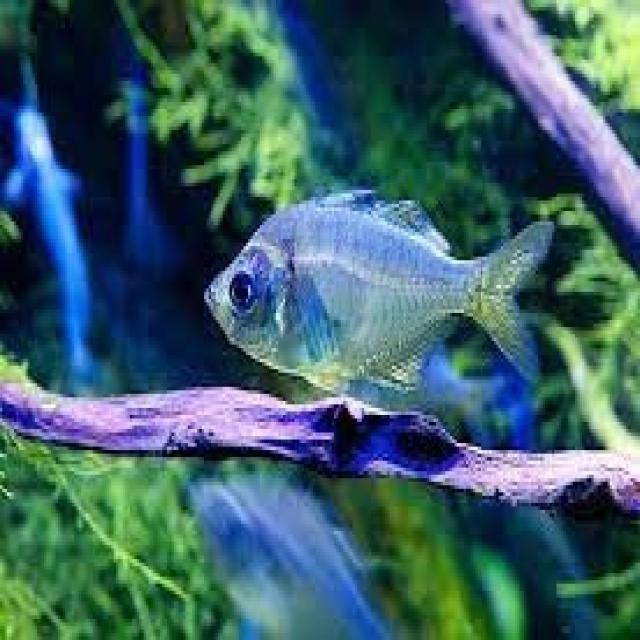Glass-Perchlet: (199, 146, 574, 427)
